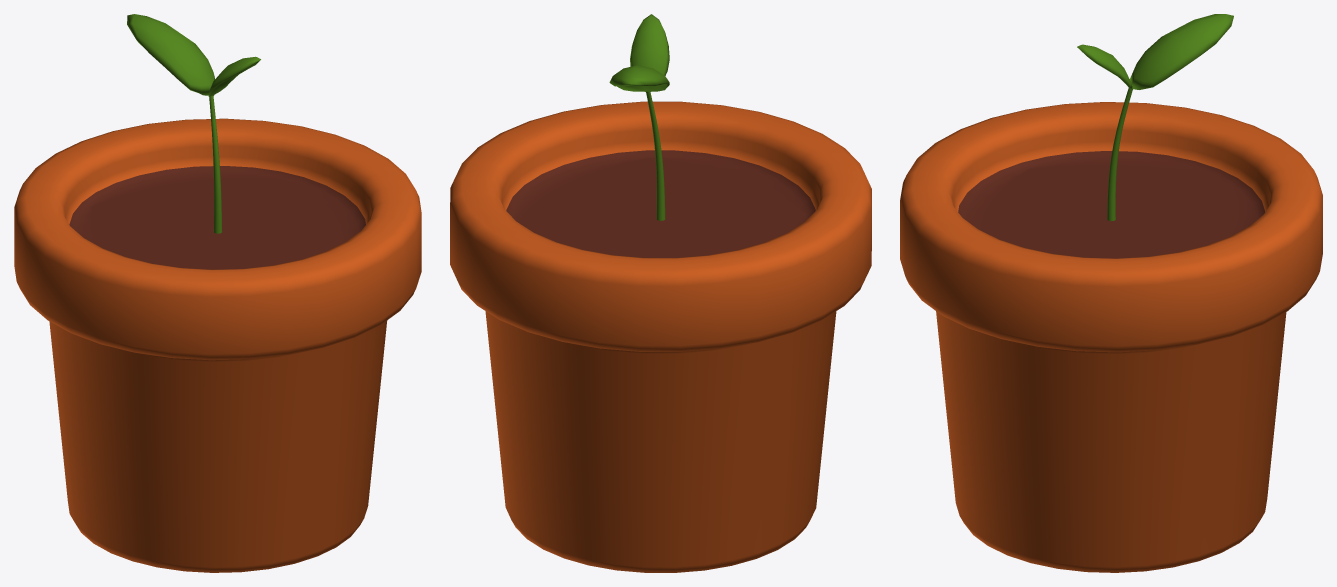
File: lavender2.glb
The picture shows the model from 3 angles, left to right: view 1: azimuth 30°, elevation 25°; view 2: azimuth 150°, elevation 25°; view 3: azimuth 270°, elevation 25°; orthographic projection. The views are drawn at different scales.
Parts seen in each view (by area): view 1: plant-pot.001, plant-pot-leaf, plant-pot-stick; view 2: plant-pot.001, plant-pot-leaf, plant-pot-stick; view 3: plant-pot.001, plant-pot-leaf, plant-pot-stick.
Part boxes in pixels (box(x1,y1,x2,y2)): plant-pot.001: box(14, 118, 421, 572); plant-pot-leaf: box(127, 14, 260, 96); plant-pot-stick: box(209, 95, 222, 233); plant-pot.001: box(450, 101, 871, 572); plant-pot-leaf: box(609, 14, 669, 91); plant-pot-stick: box(646, 91, 665, 220); plant-pot.001: box(900, 102, 1322, 572); plant-pot-leaf: box(1077, 14, 1233, 89); plant-pot-stick: box(1107, 88, 1132, 220).
Bounding box in the file's own units: 1.14 × 1.44 × 1.14.
